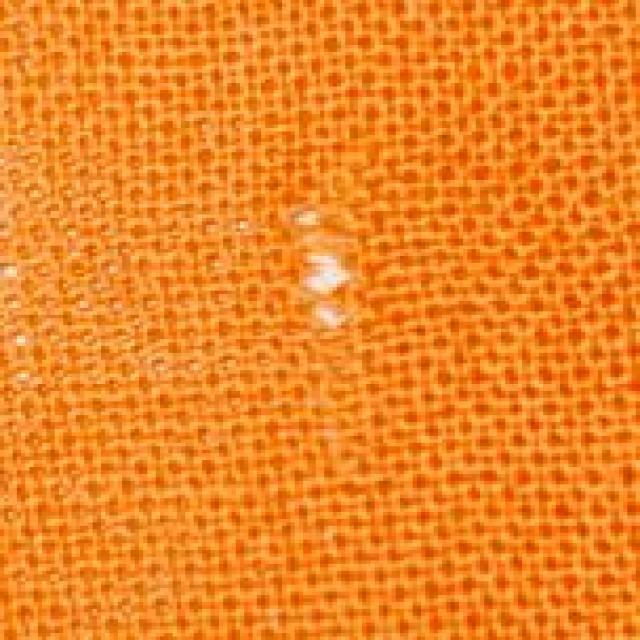other: (260, 182, 394, 360)
